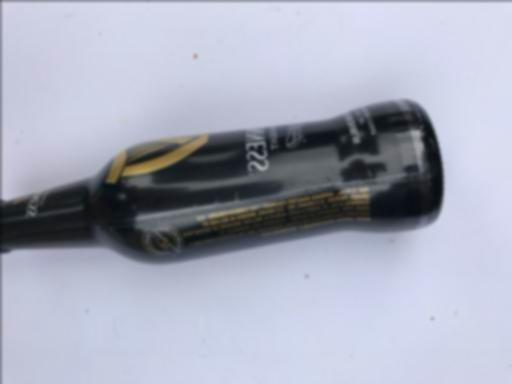alcohol: (1, 96, 444, 258)
glass: (1, 96, 444, 258)
sodocalcique: (1, 96, 444, 258)
